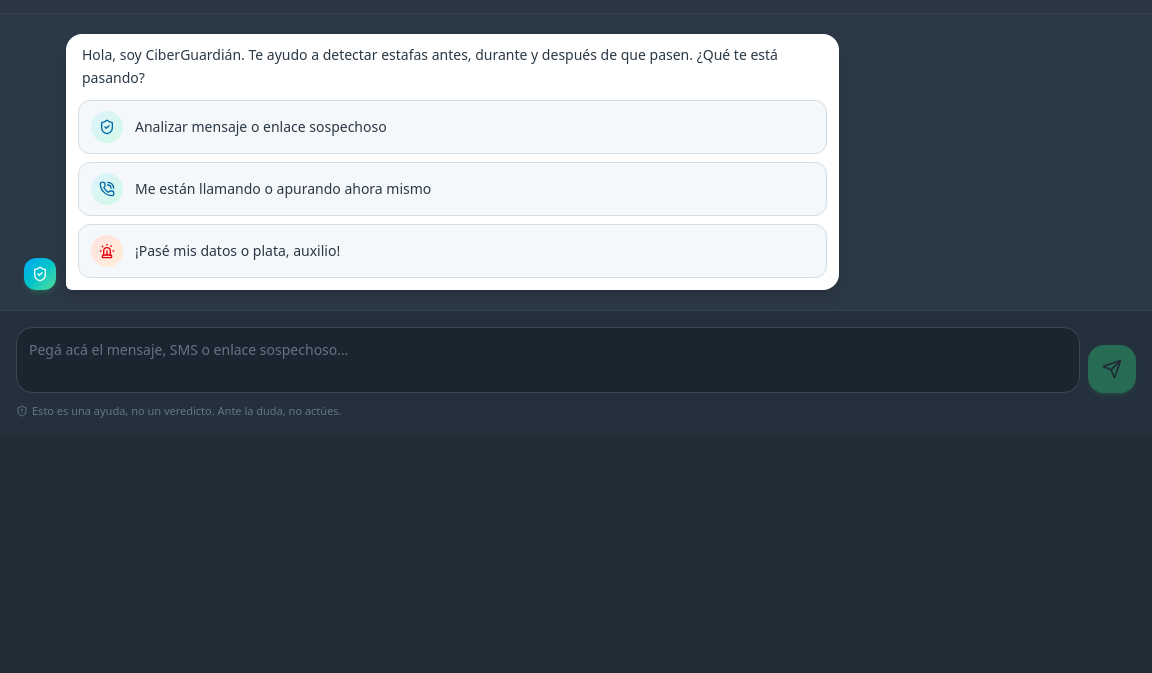
Test: ChatAssistant: preguntas de seguimiento (FH26-57) › aclara cuando la respuesta es de respaldo
Type "Banco Formosa: pasame el token urgente" into the text box named "Mensaje sospechoso" at (548, 360), box x1=16 y1=326 x2=1080 y2=392
Then press Enter
(page scrolled)
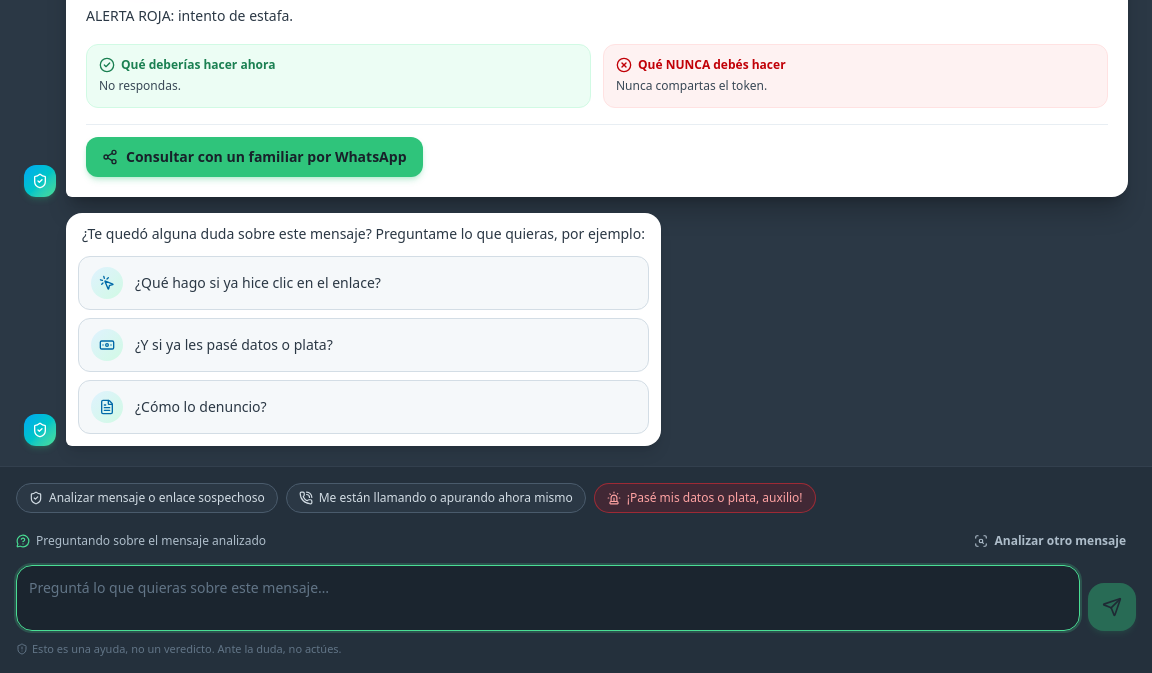
Expected: the text "ALERTA ROJA: intento de estafa." is shown, x1=86 y1=6 x2=293 y2=25
Click the button "¿Cómo lo denuncio?" at (107, 407), box x1=78 y1=380 x2=649 y2=434
(page scrolled)
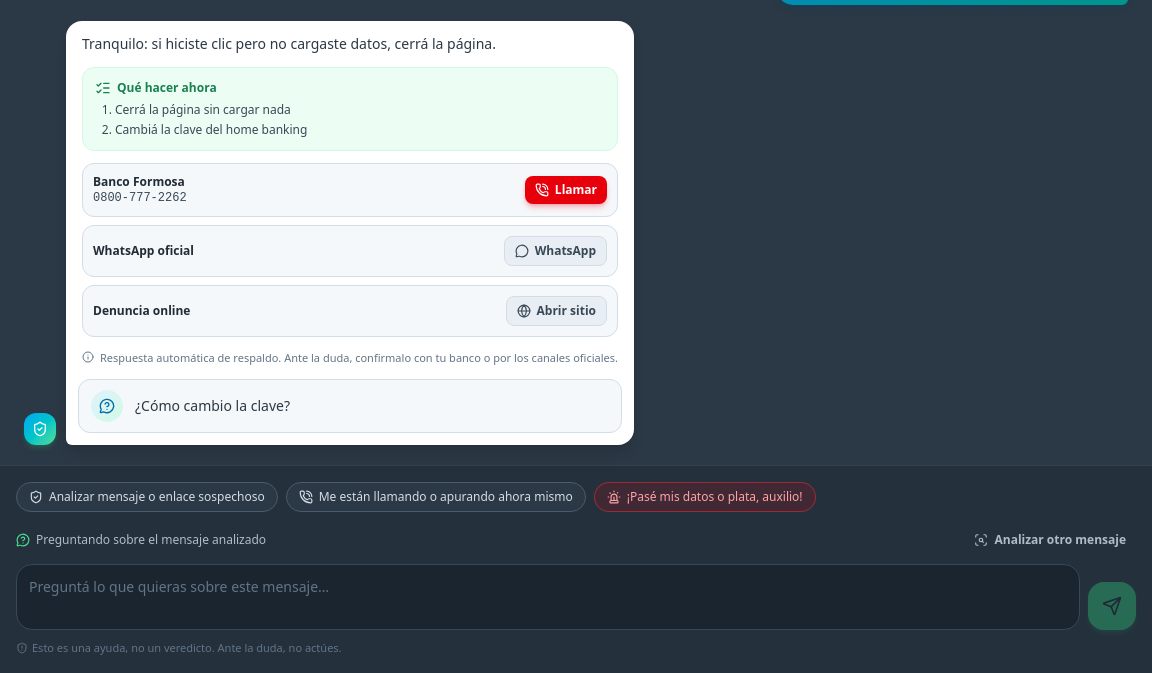
Expected: the text "Respuesta automática de respaldo" is shown, x1=100 y1=350 x2=618 y2=365
